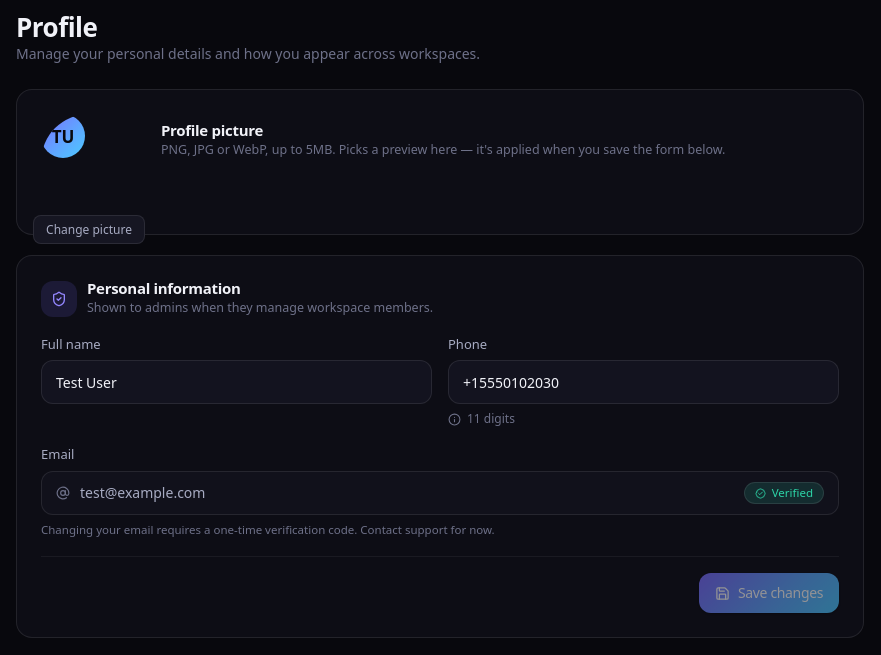
Test: Profile page › enables save button when name is changed
Replace the text in the field labelled "Full name" with "New Name": (236, 382) 41,360 -> 432,404
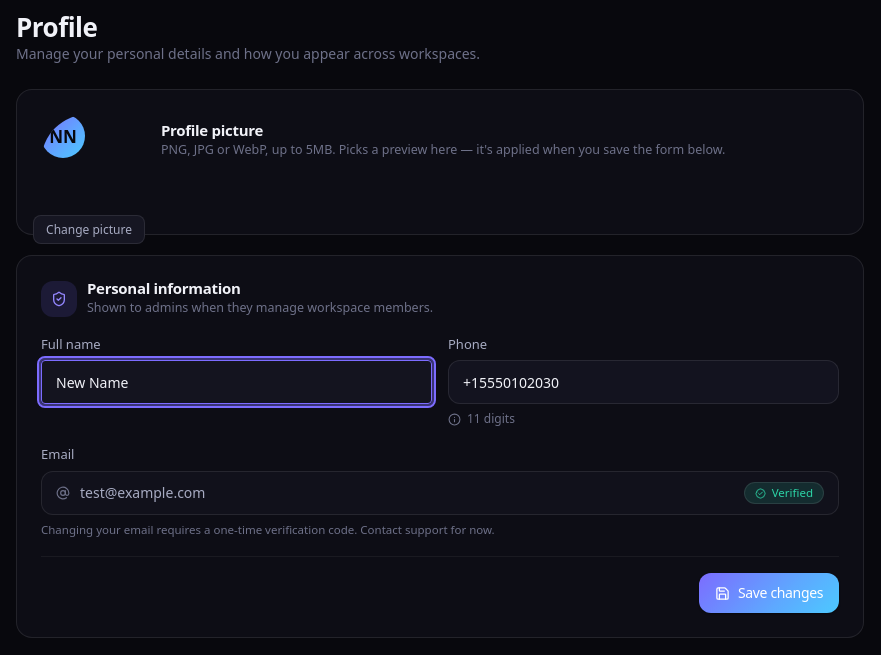
Now the button "Save changes" is enabled, box 699,572 -> 839,612
